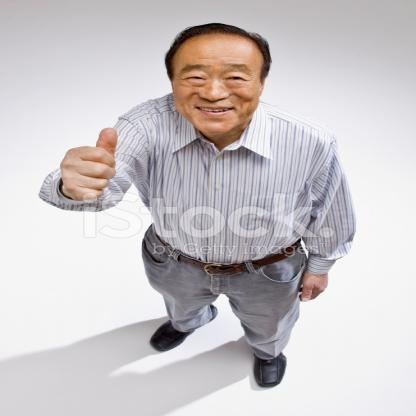fist: (61, 126, 120, 198)
